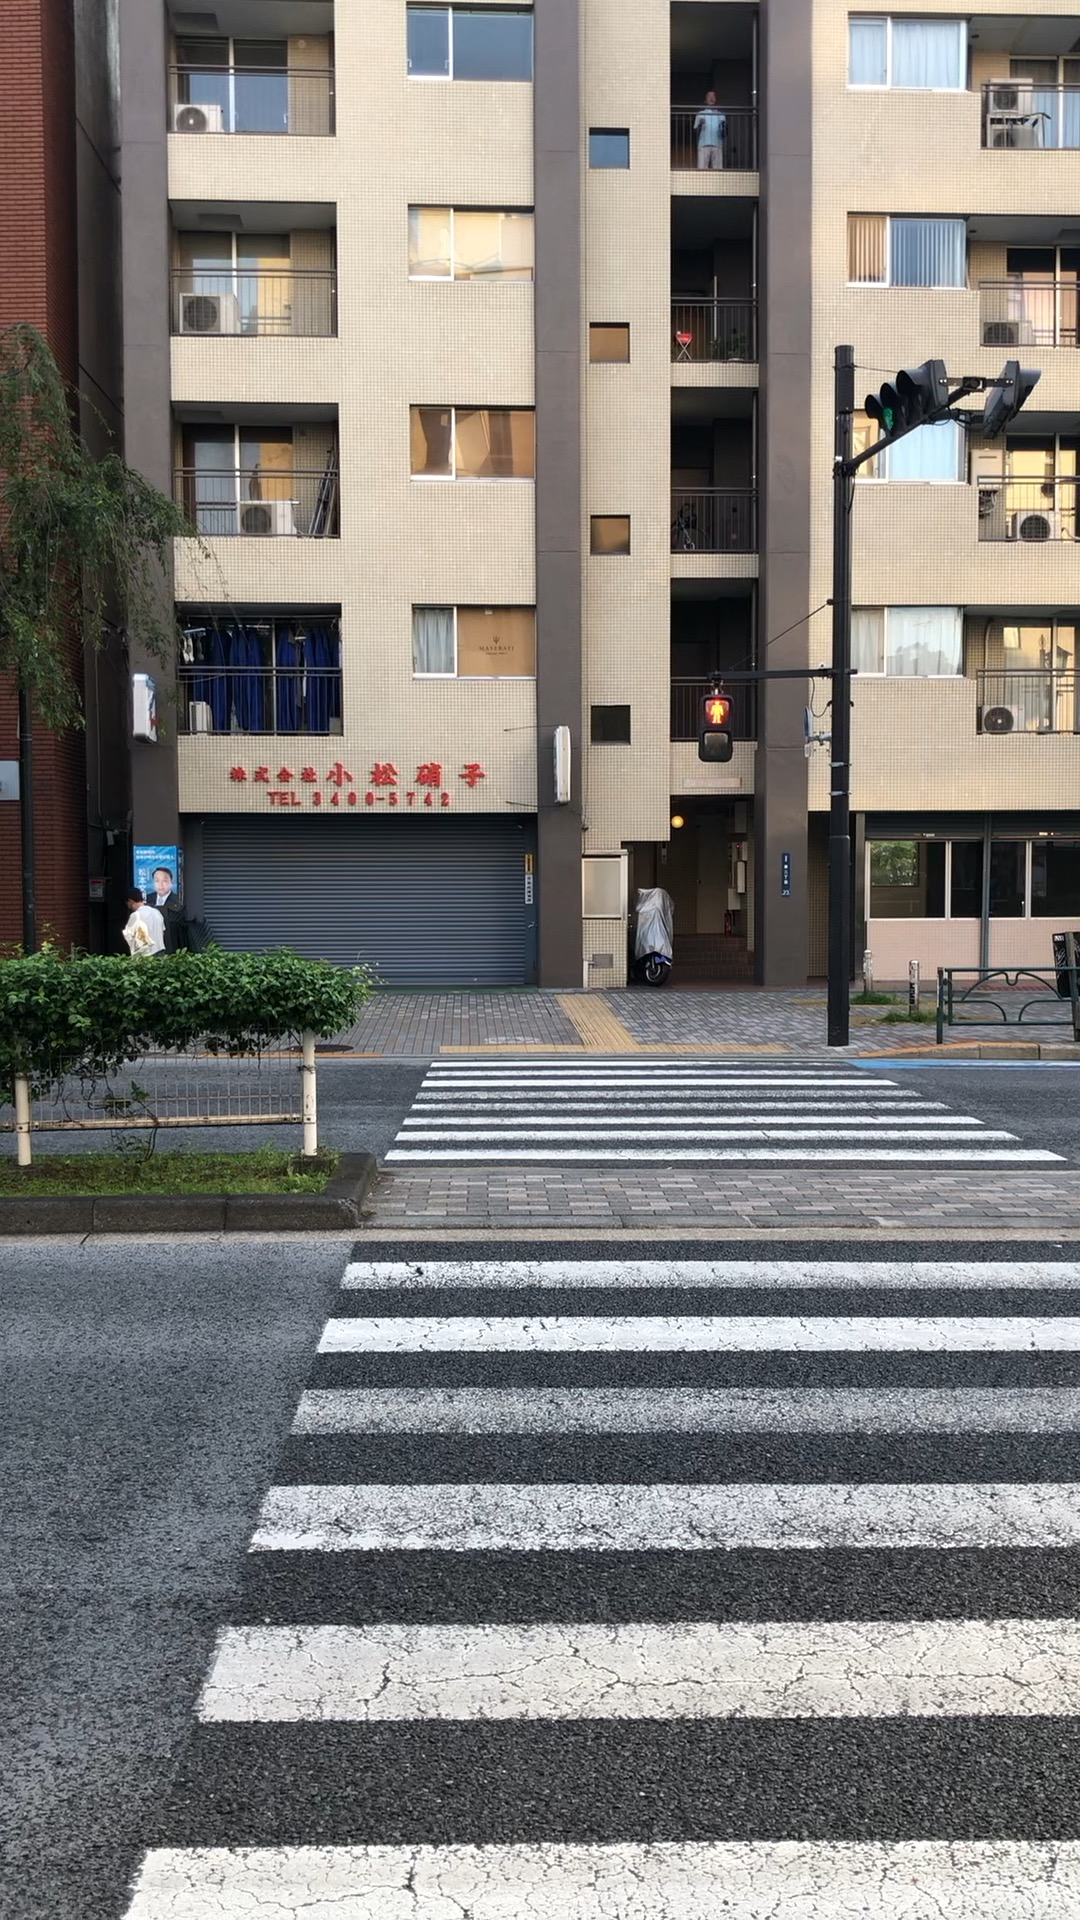red: (698, 694, 733, 762)
